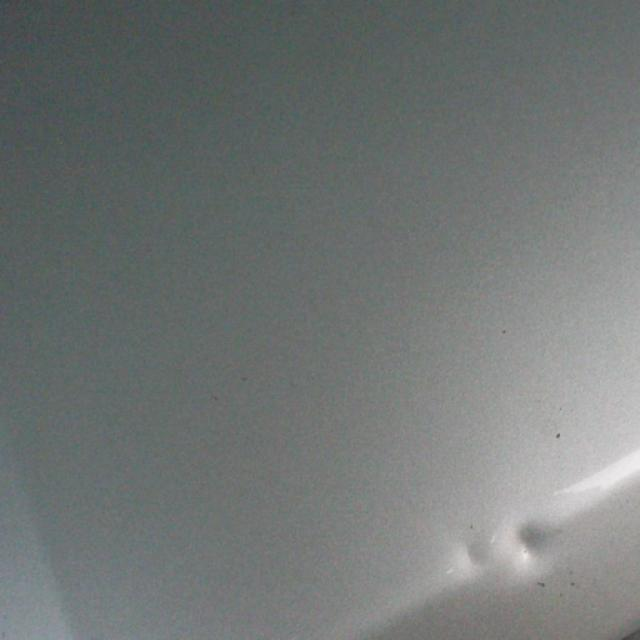dents: (455, 498, 598, 626)
